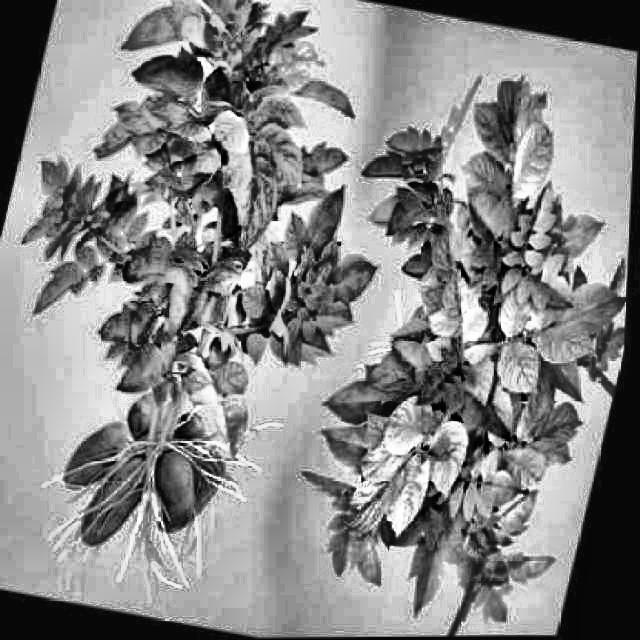plants: (0, 0, 440, 617), (259, 37, 638, 637)
